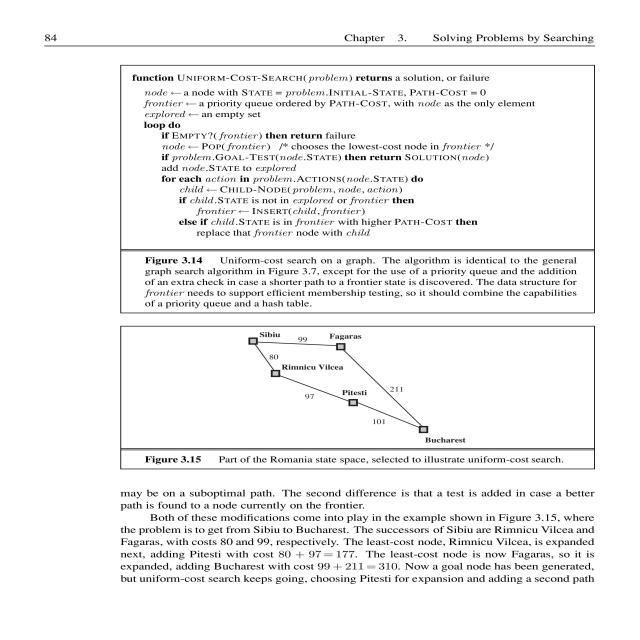diagram: (107, 53, 624, 473)
